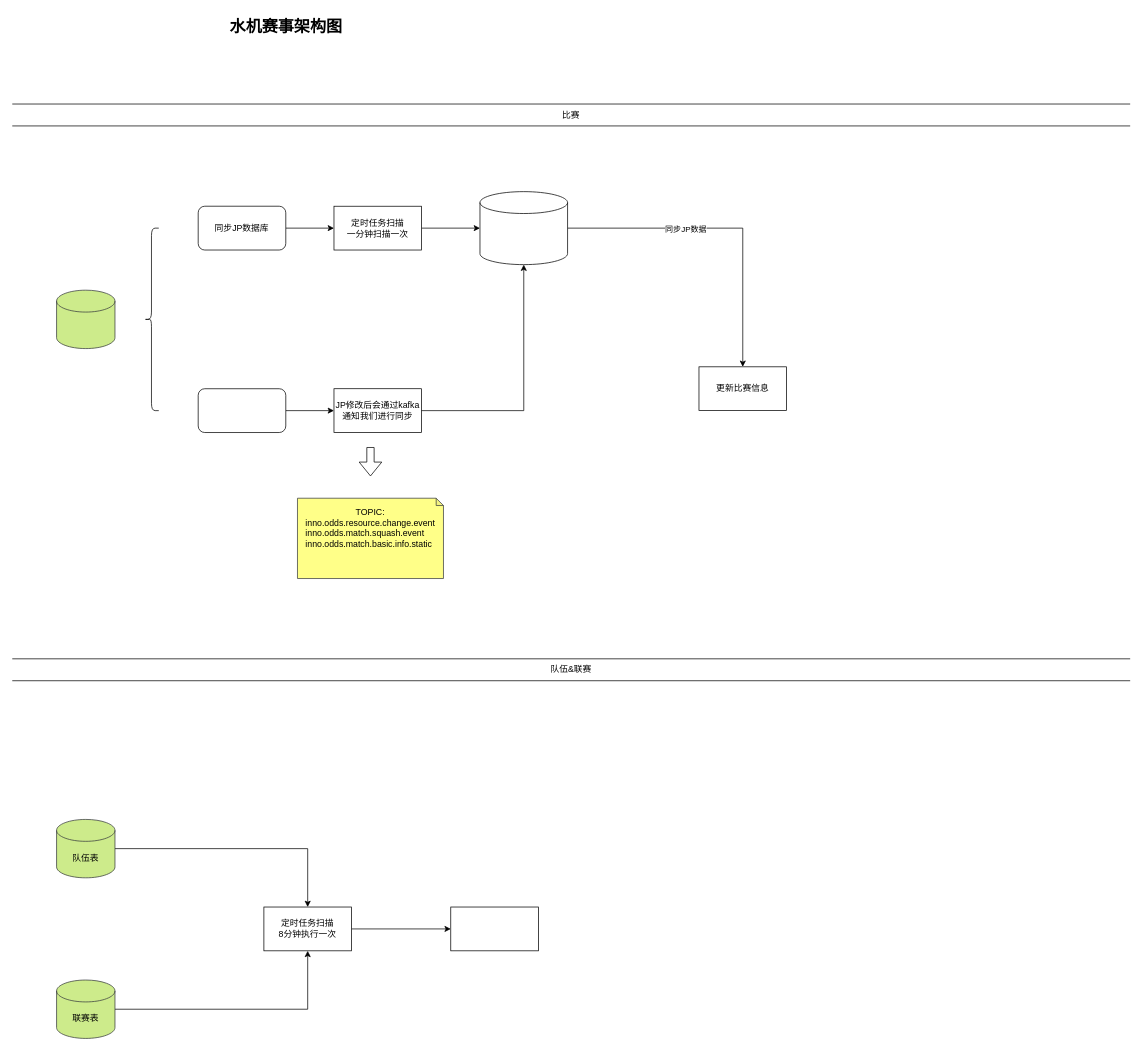
Image size: 1142x1051. Some labels were removed from this diagram. Here are the shapes that lost their labels. From the top down, the centre of each, then its label:
At (x=523, y=228): "库: inno_odds 表: refactor_prematch".
At (x=85, y=319): "比赛表".
At (x=241, y=410): "JP修改通知".
At (x=494, y=928): "全量同步数据".
